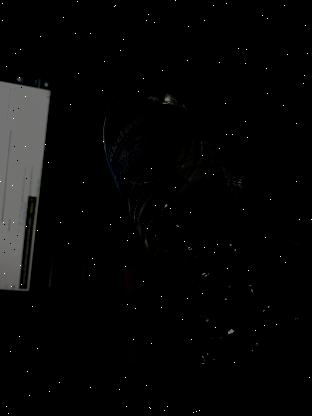Plastic Bottle: (95, 70, 312, 363)
